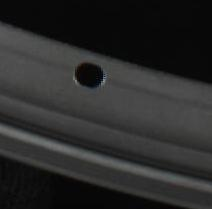holes: (72, 59, 107, 88)
